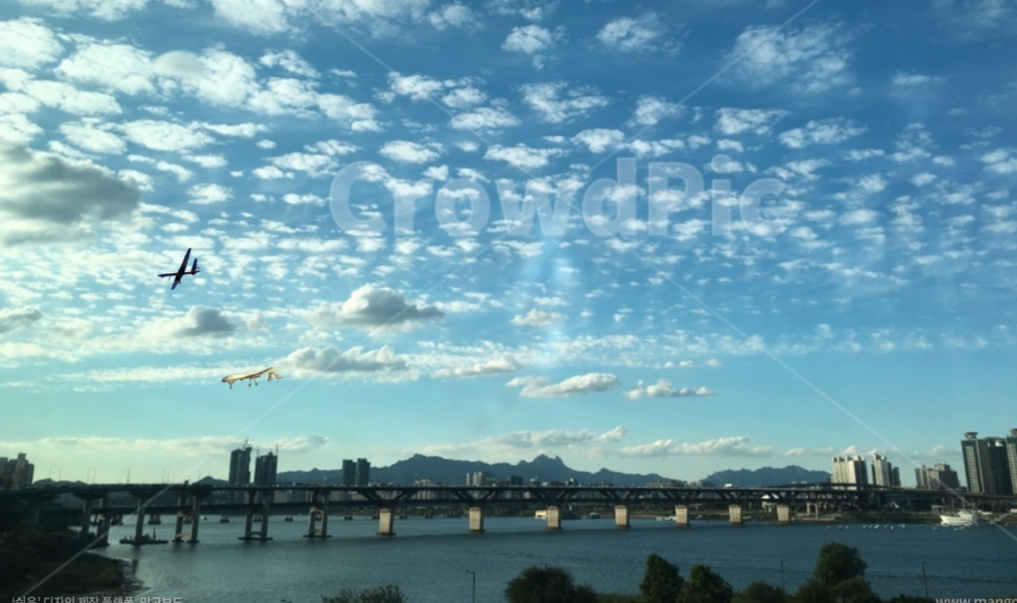military drone: (157, 247, 201, 290), (220, 365, 282, 389)
